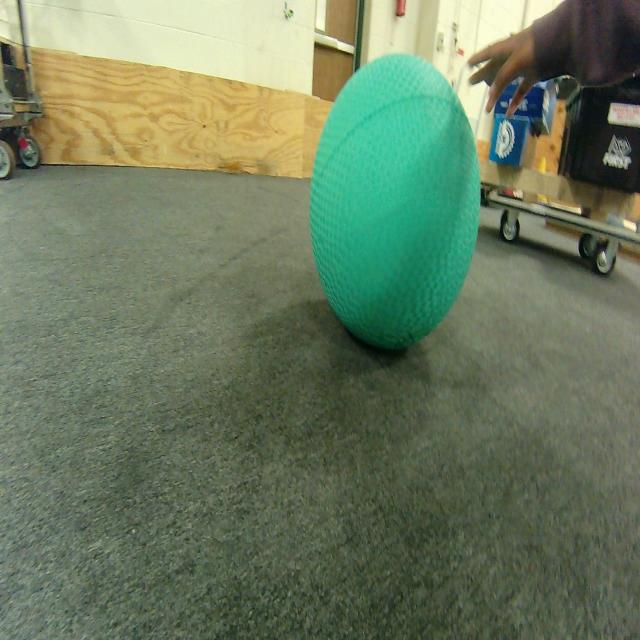algae: (306, 46, 488, 361)
